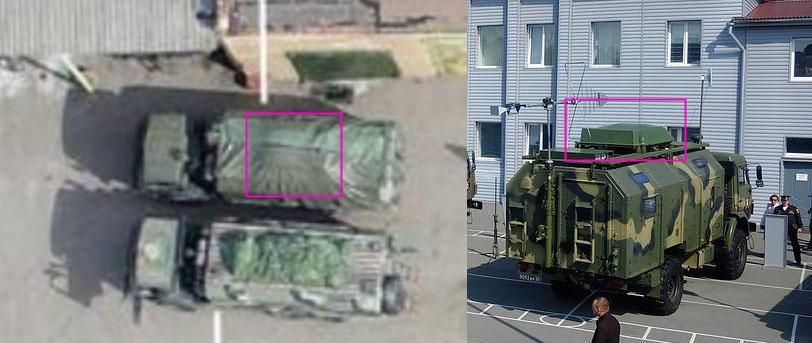truck: (502, 78, 762, 303), (107, 215, 419, 326), (132, 103, 418, 216)
